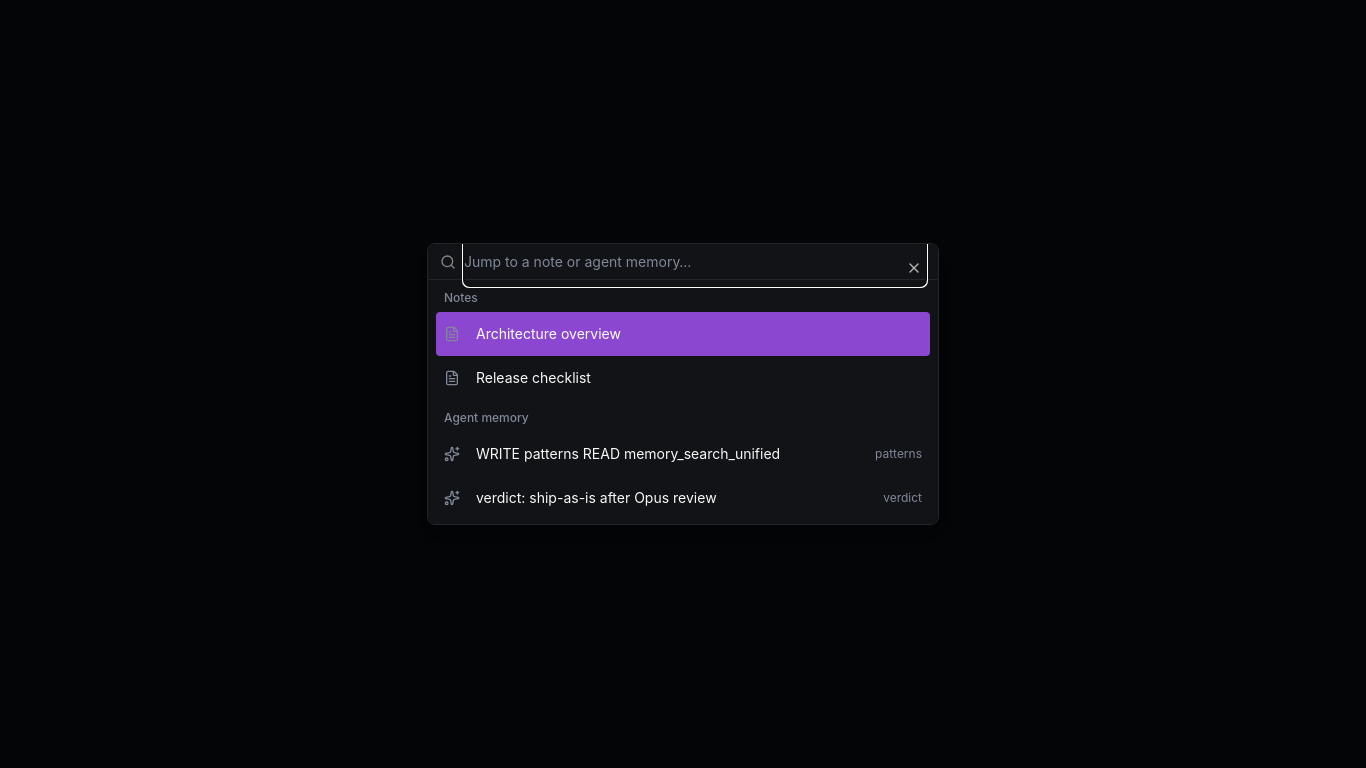
it: MemoryQuickSwitcher (P4 MEM-4) › lets cmdk filter the visible items as you type
Expected: the text "WRITE patterns READ memory_search_unified" is shown, [476,445,780,462]
Type "Release" into the dropdown with placeholder "Jump to a note or agent memory…" at {"x": 695, "y": 262}, box [464,238,926,286]
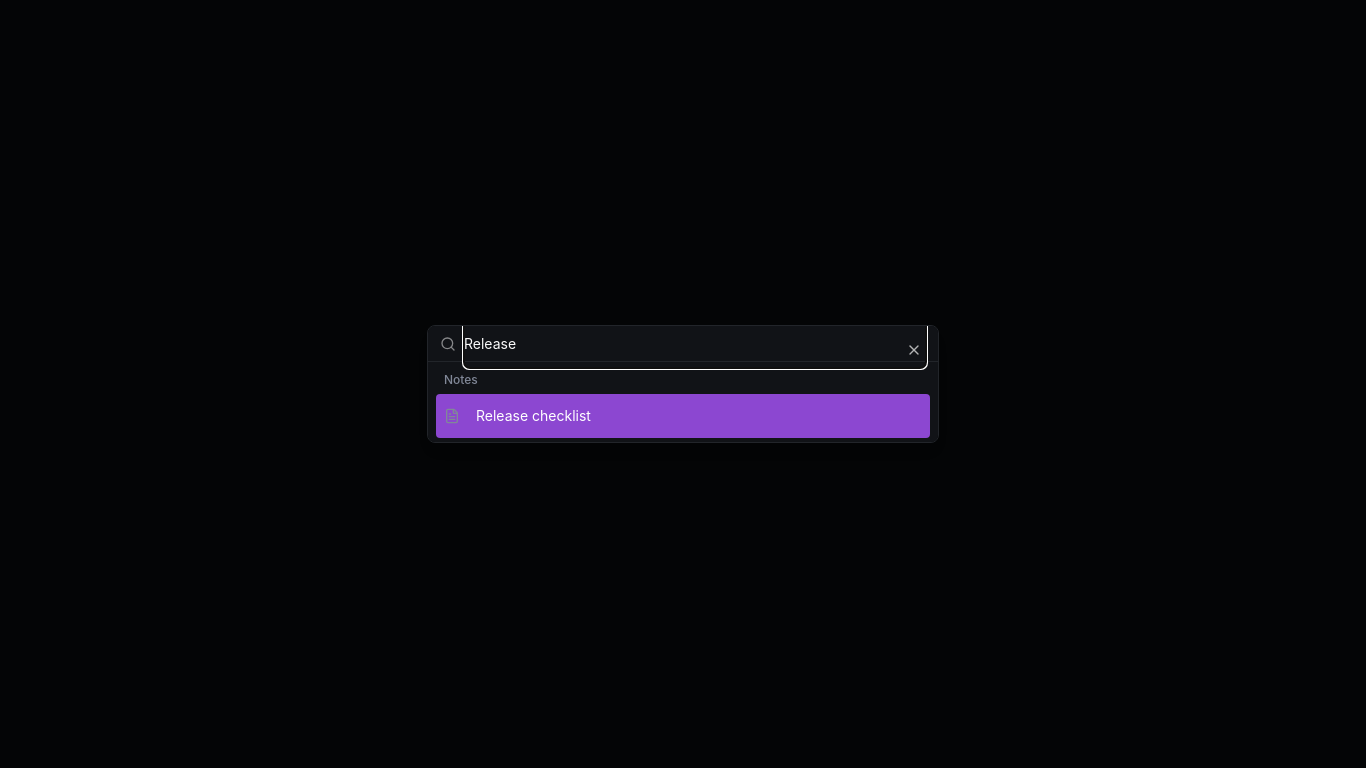
Expected: the text "Release checklist" is shown, [476,407,591,424]
Expected: the option "Architecture overview" is gone
